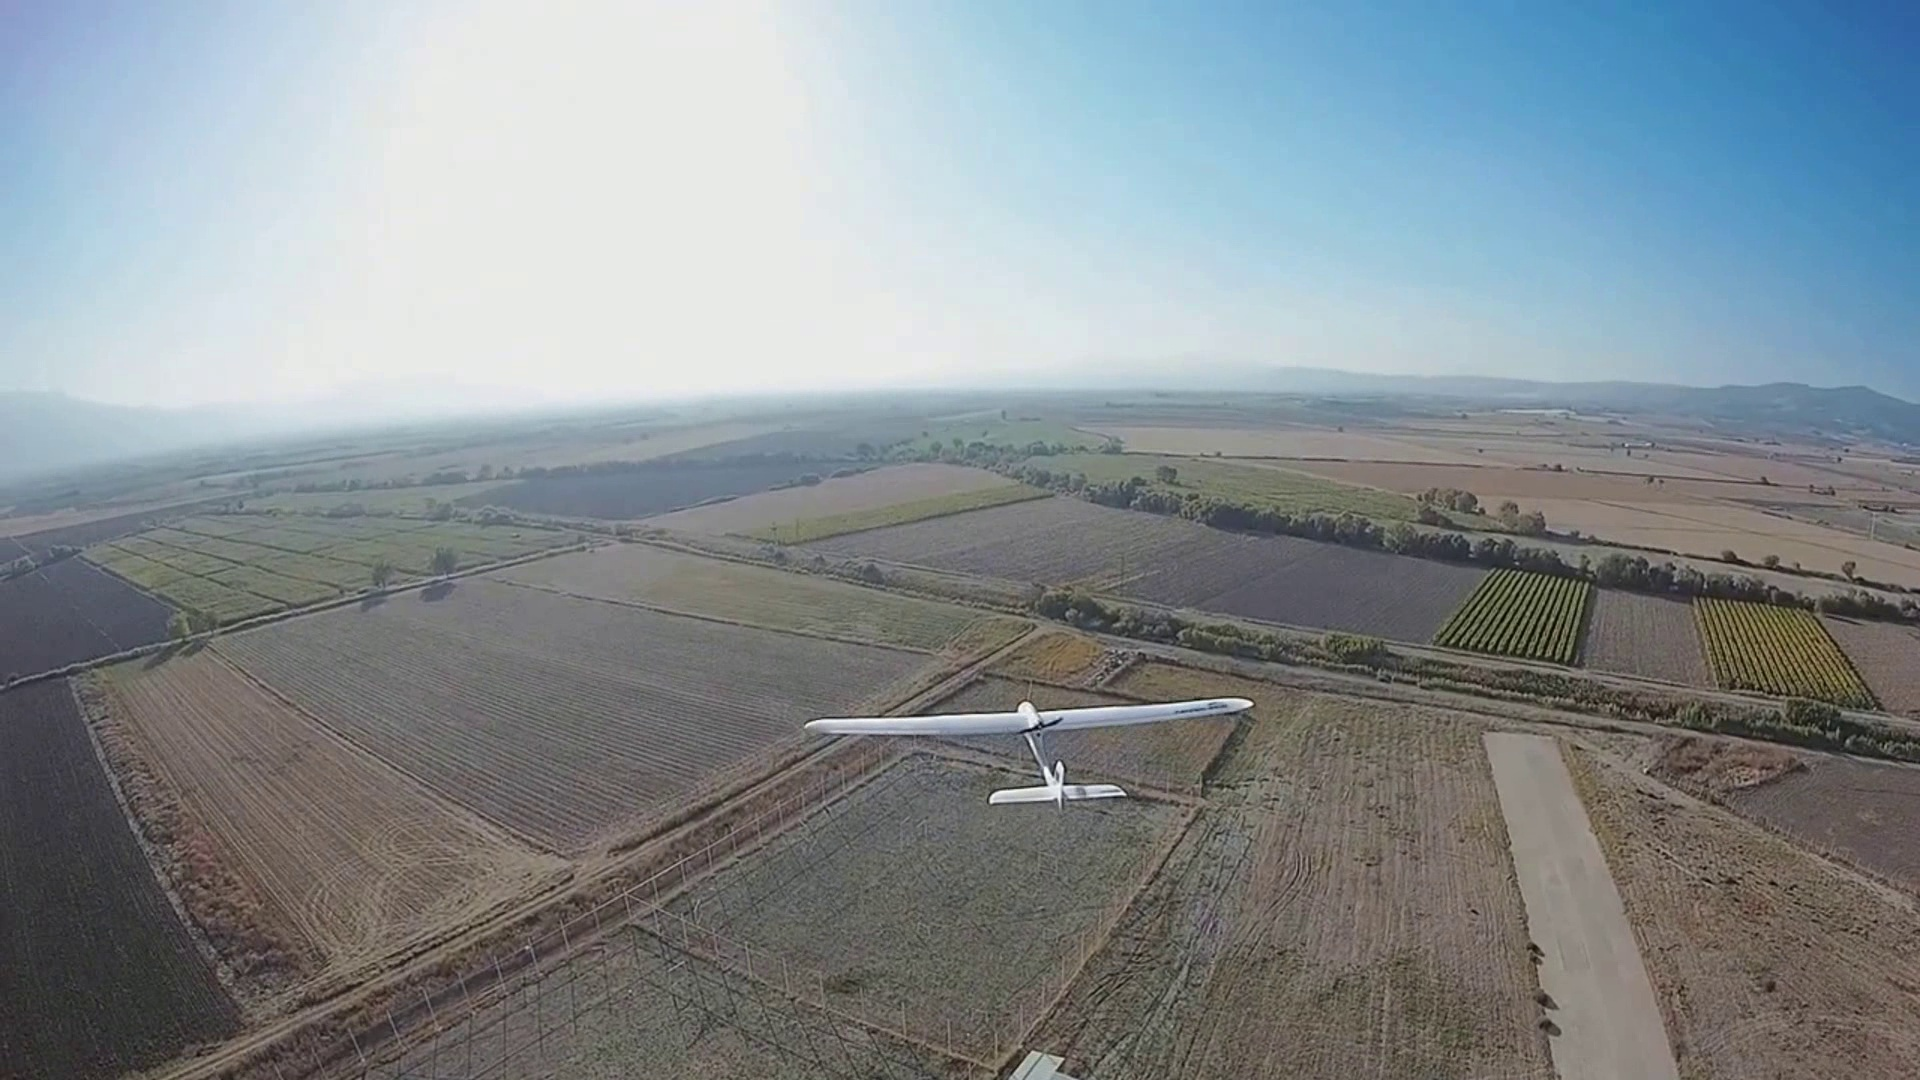airplane: (800, 692, 1254, 814)
